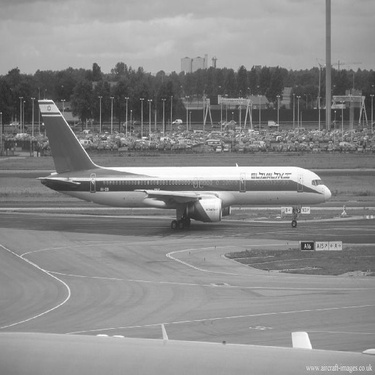airplane: (26, 91, 339, 242)
